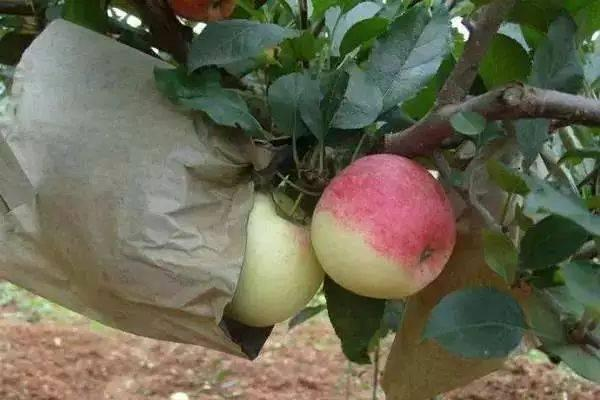apple: (308, 152, 453, 300)
